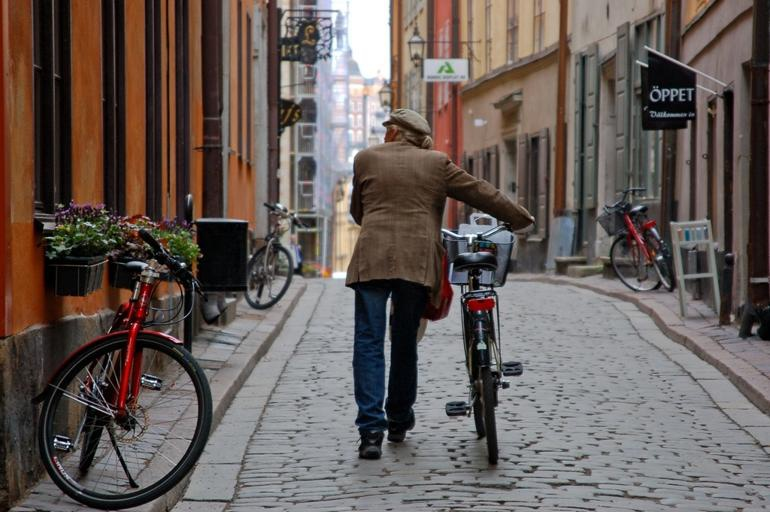non-vehicle: (29, 227, 211, 512), (439, 217, 534, 463), (598, 171, 677, 292), (242, 201, 308, 310)
